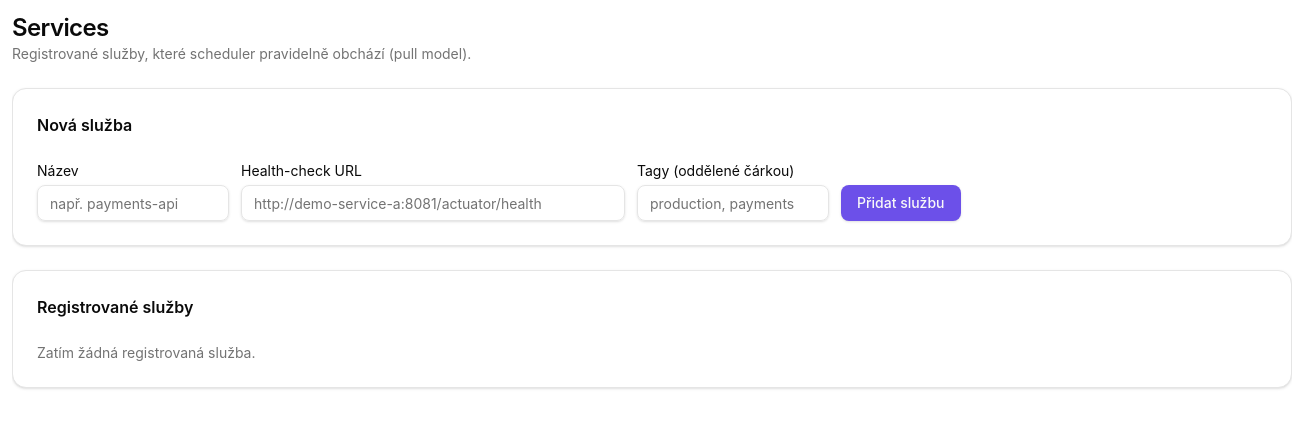
Scenario: ServicesPage › zobrazí hlášku z backendu, když se přidání služby nezdaří (např. duplicitní název)
The width and height of the screenshot is (1292, 434).
Type "demo-service-a" into the field with placeholder "např. payments-api" at (133, 203), box [37,185,229,221]
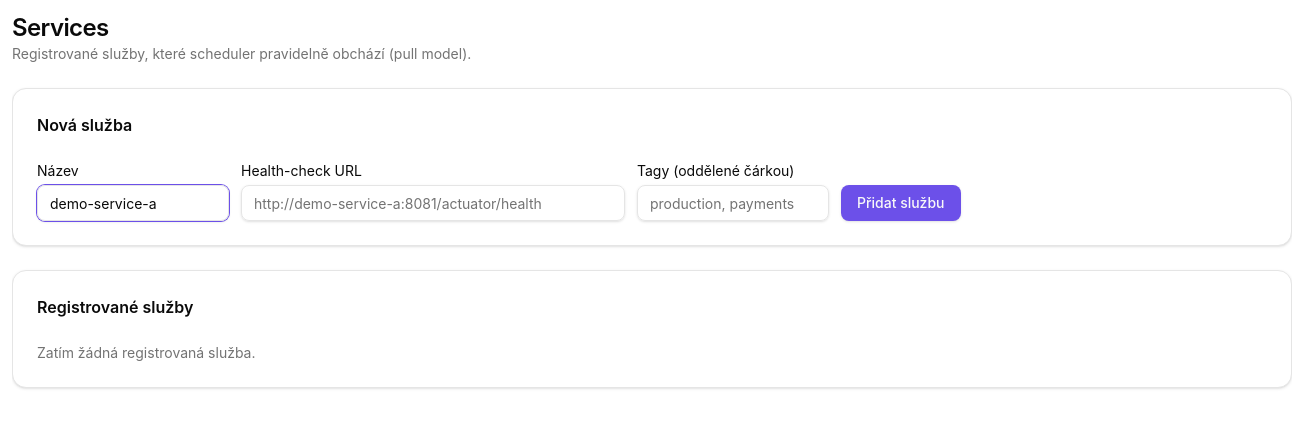
Type "http://test:8080/actuator/health" into the field with placeholder "http://demo-service-a:8081/actuator/health" at (433, 203), box [241,185,625,221]
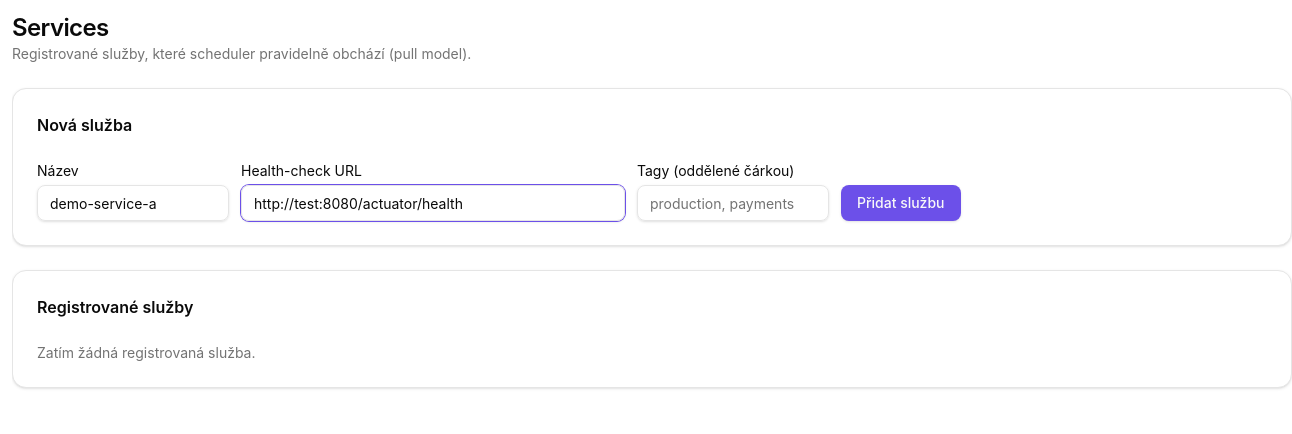
Click the button "Přidat službu" at (901, 203), box [841,185,960,221]
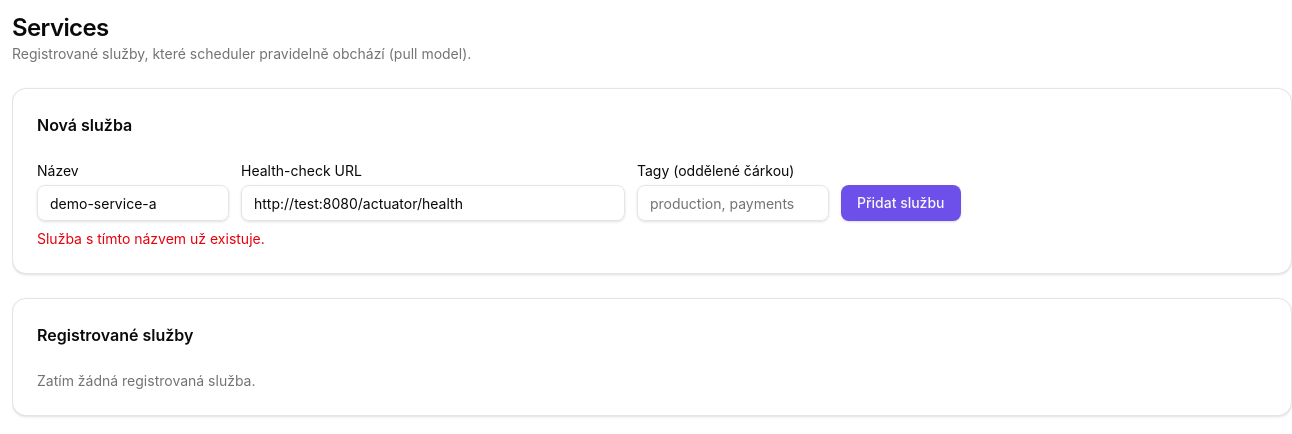
Expected: the text "Služba s tímto názvem už existuje." is shown, [37,230,265,247]
